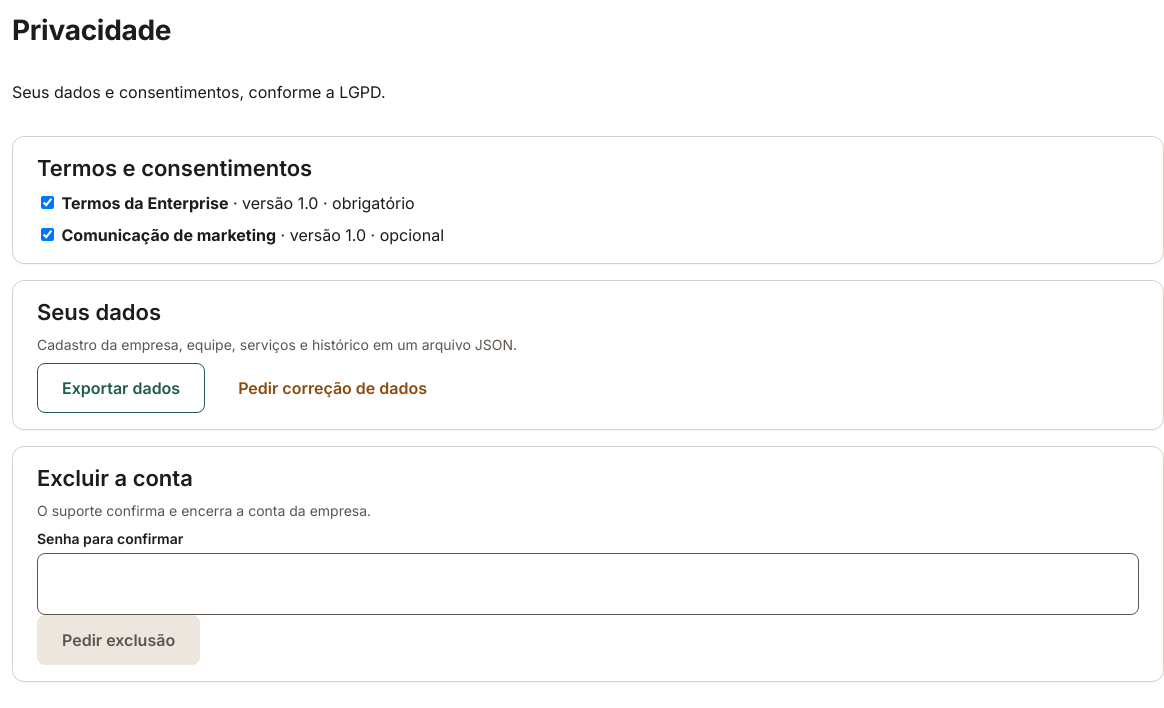
Test: UC-46 · Privacidade da empresa na web › CT-46-02: deve avisar que o termo obrigatório não sai sem excluir a conta
Click the checkbox labelled "Termos da Enterprise · versão 1.0 · obrigatório" at (48, 202), box [41,196,54,209]
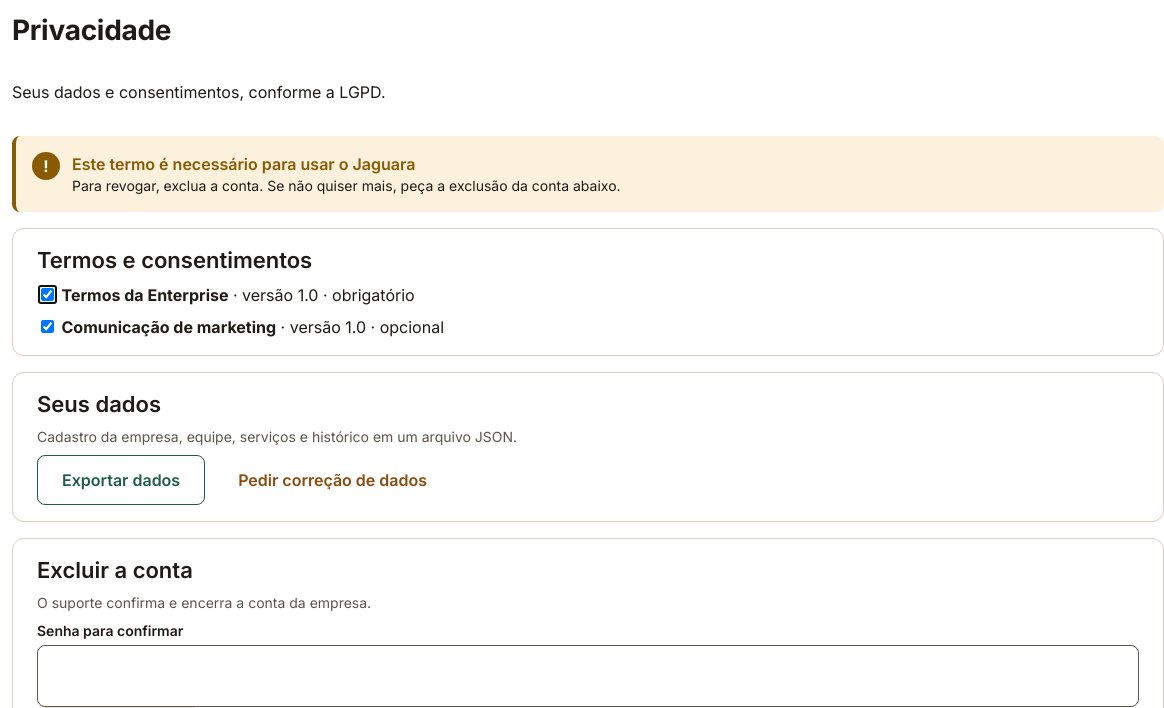
Expected: the text "Este termo é necessário para usar o Jaguara" is shown, [71,153,415,174]
